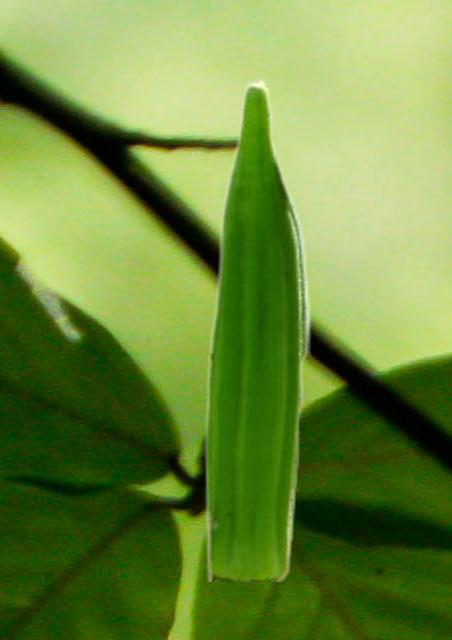okra: (204, 77, 311, 580)
